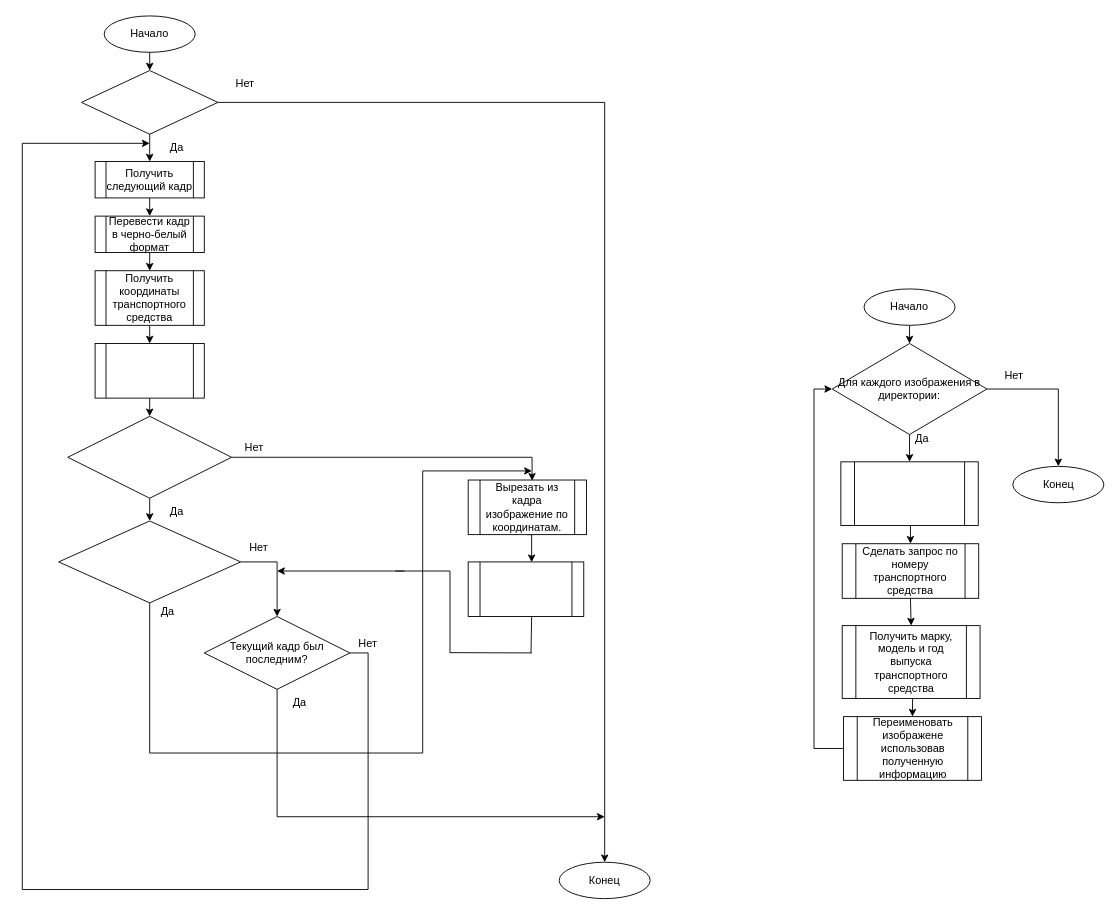
The diagram is 1120 pixels wide and 915 high, and some of its shapes have lost their labels. The centre of each missing label's shape, as x and y in pixels:
Видео загружено?: (149,102)
Распознать номер транспортного средства: (149,370)
Сохранить полученное изображение.: (525,589)
Считать номер транспортного средства из названия изображения: (909,493)
Такой номер уже был распознан в данном видео?: (149,456)
Текущая точность предсказания номера выше предыдущей?: (149,561)
